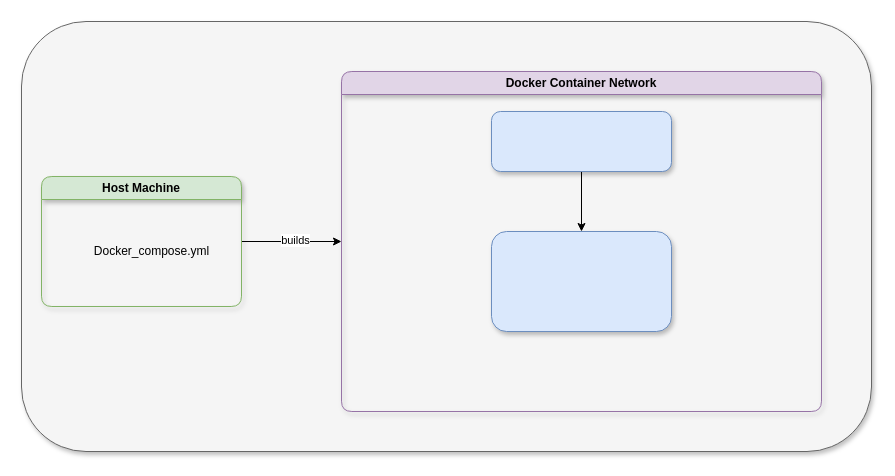
This 895x476 diagram has some shape labels left out. The shapes that lost their labels are listed below. From the top down, each one's centre as x and y in pixels, then its label:
point (582, 142): Ansible Host: Ansible_Container
point (582, 282): host_4_webapp
